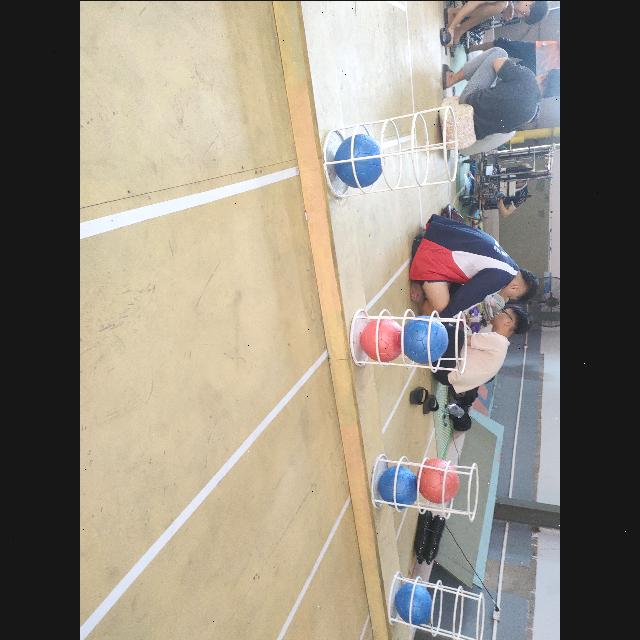B: (333, 134, 385, 186), (404, 314, 448, 362), (394, 582, 432, 626), (379, 465, 417, 507)
R: (416, 457, 458, 503), (361, 318, 401, 360)
